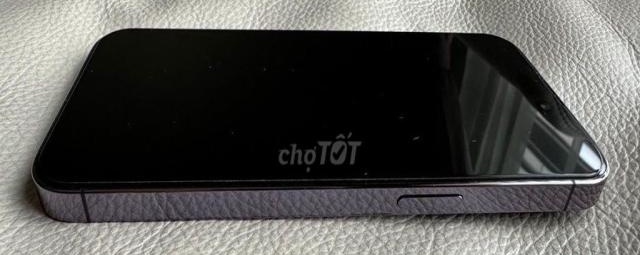scratch: (530, 72, 553, 126), (301, 163, 372, 175), (409, 128, 422, 152), (469, 128, 479, 148)
